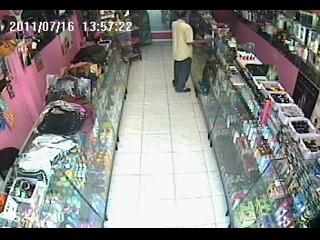Normal: (171, 11, 202, 93)
